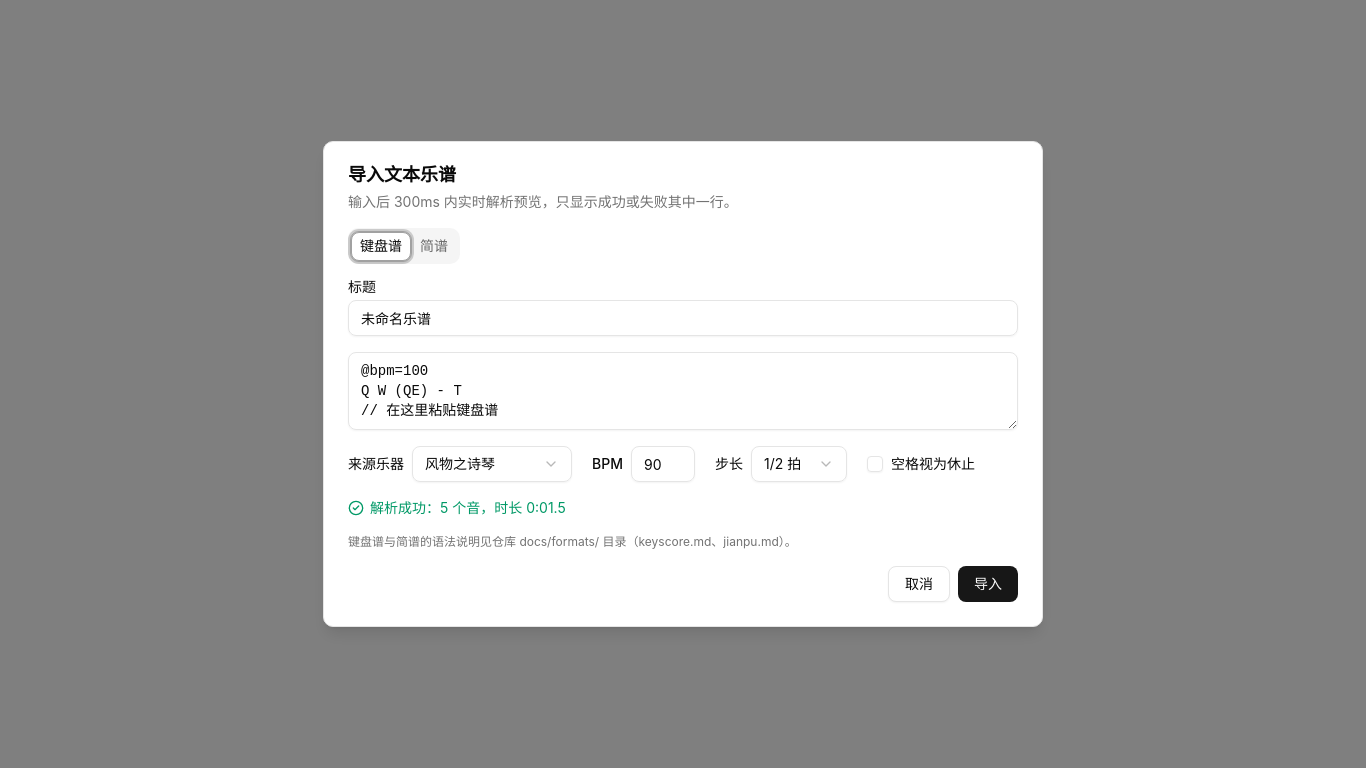
TextScoreDialog › 简谱标签下隐藏键盘谱选项，简谱可以解析
Click the tab "简谱" at (434, 246), box [411,232,457,260]
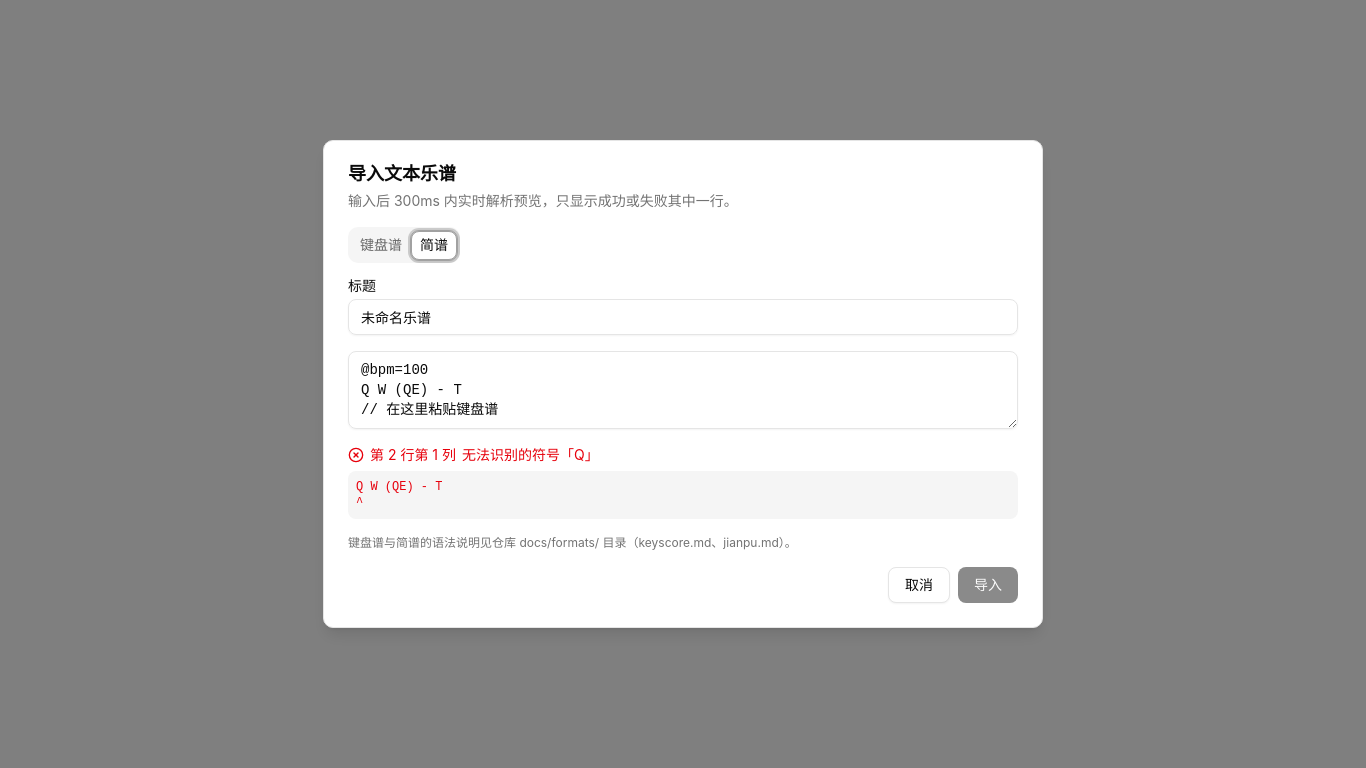
Result: the label labelled "来源乐器" is gone
Clear the text box named "乐谱文本" at (683, 390), box [348,351,1018,429]
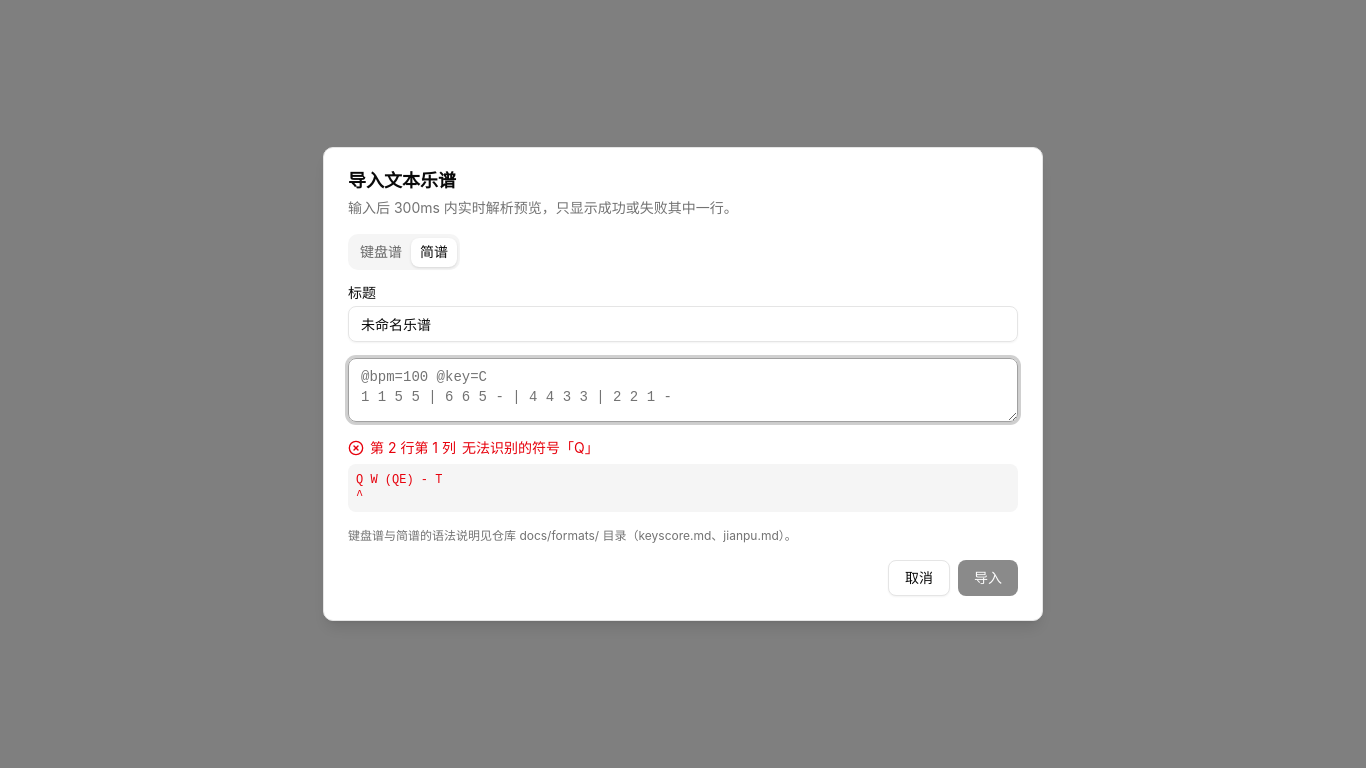
Type "1 1 5 5" into the text box named "乐谱文本" at (683, 390), box [348,358,1018,422]
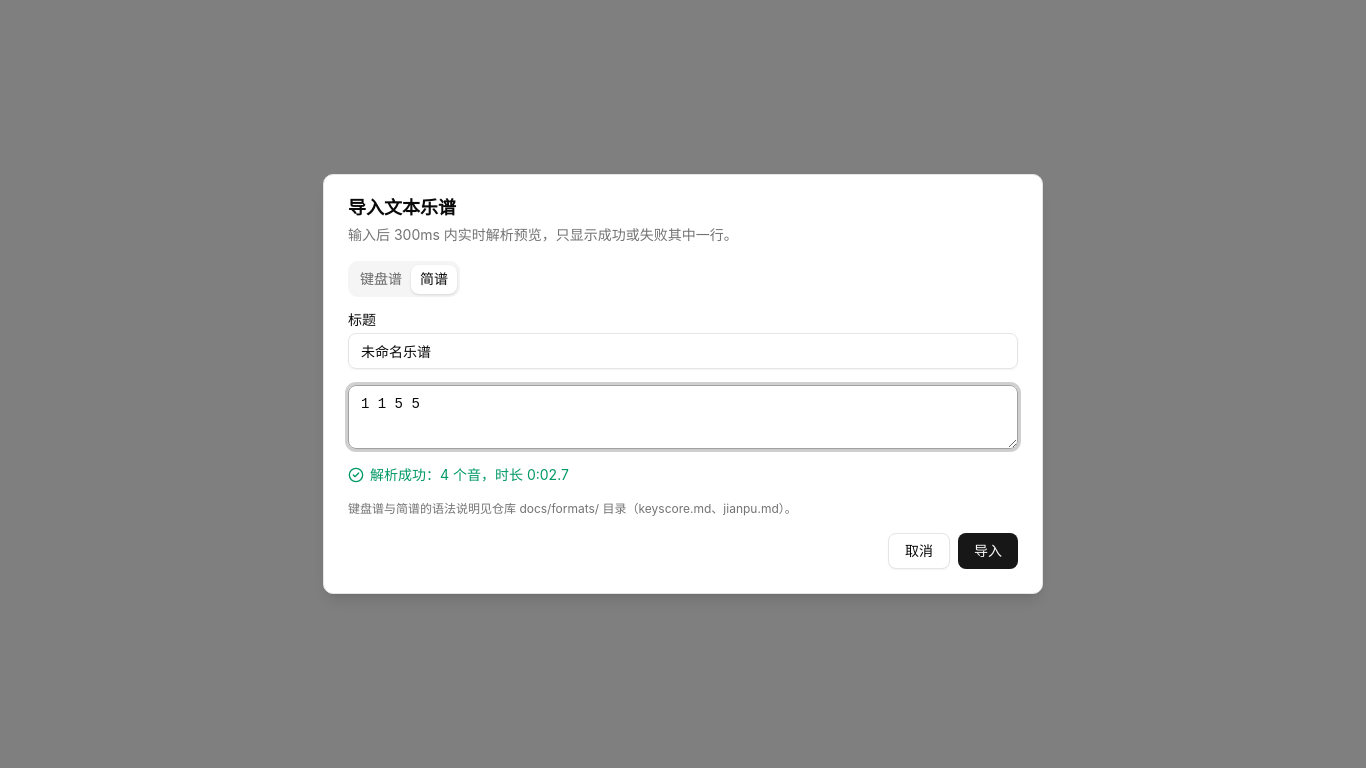
Result: the text "解析成功：4 个音，时长 0:02.7" is shown at [348,466,569,483]
